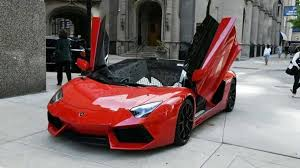car: (40, 50, 256, 168)
